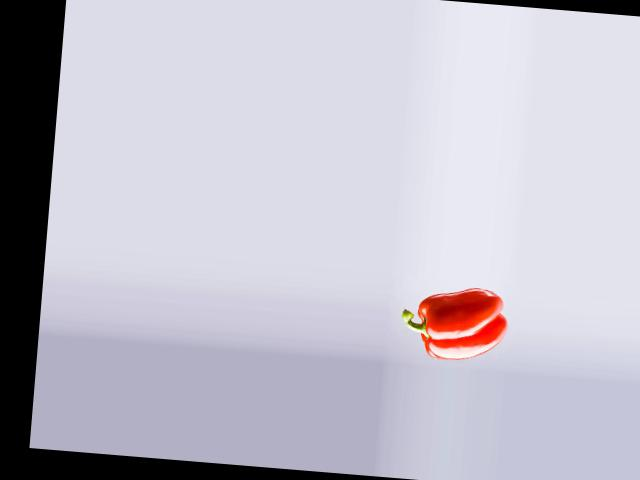bell_pepper: (397, 280, 507, 367)
